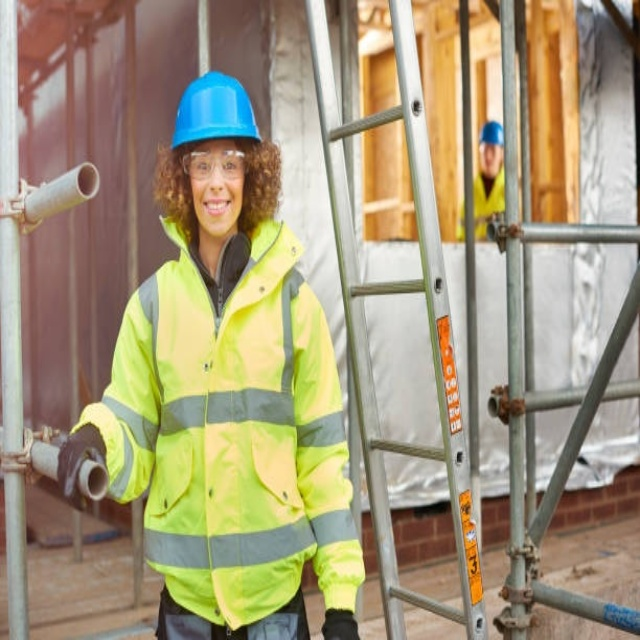Gafas: (184, 151, 248, 180)
Guantes: (56, 419, 111, 508)
Sin_mascara: (195, 190, 237, 231)
